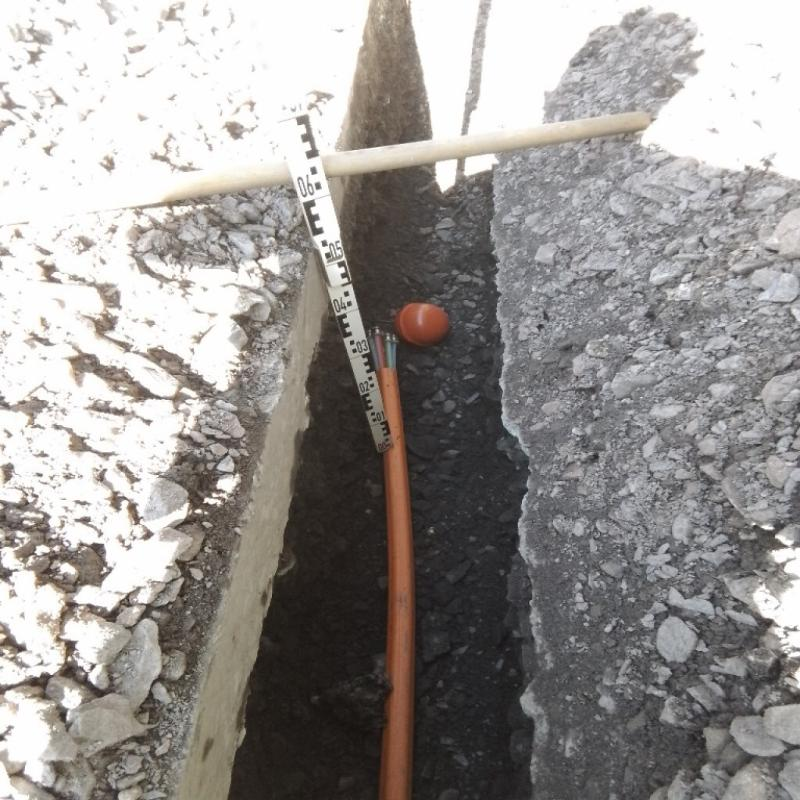Kugelmarker: (395, 302, 447, 346)
Orang-Speednetrohrchen: (365, 327, 415, 798)
